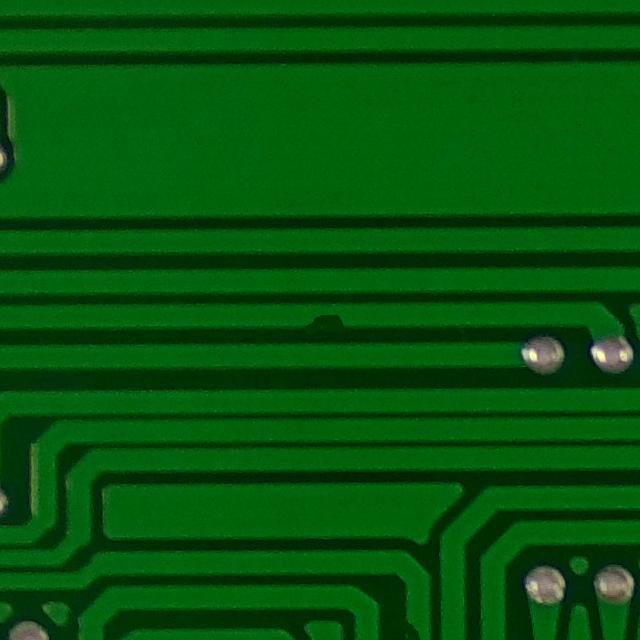mouse_bite: (284, 300, 357, 341)
